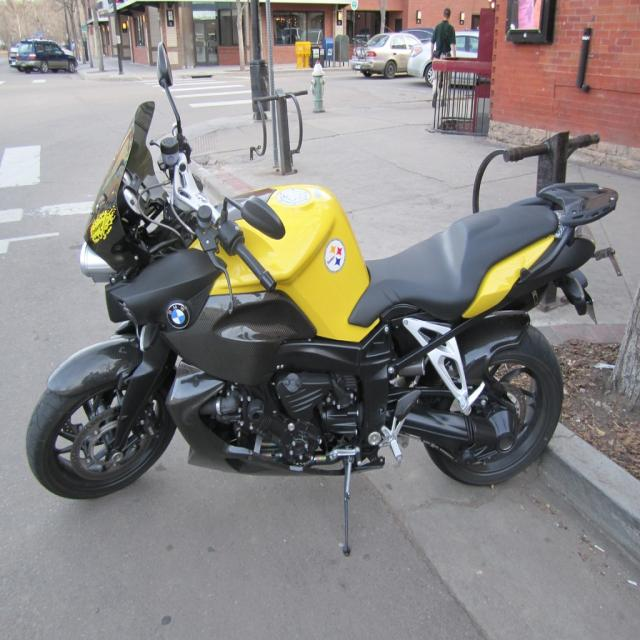car: (14, 36, 75, 72)
